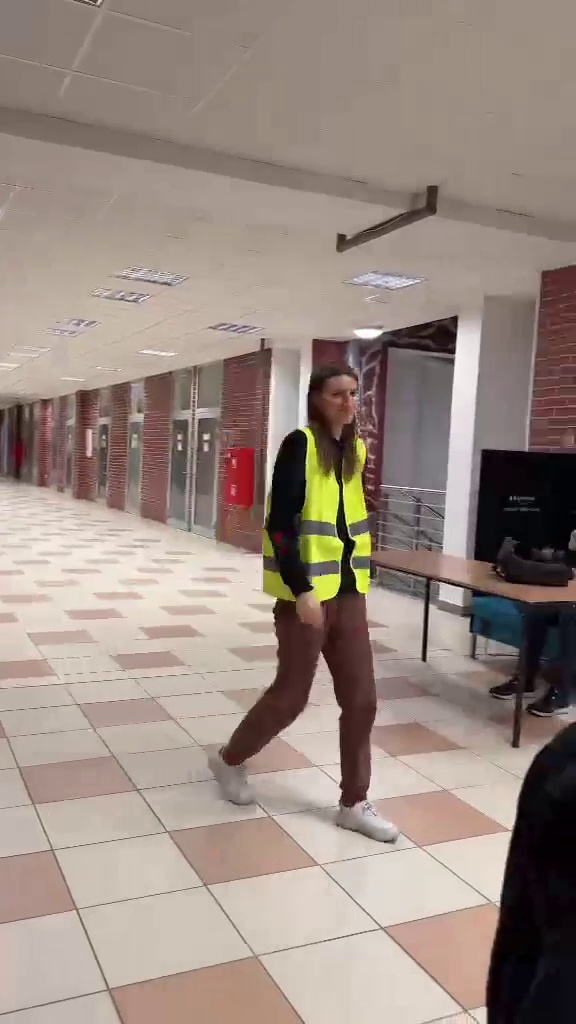vest: (209, 357, 407, 846)
